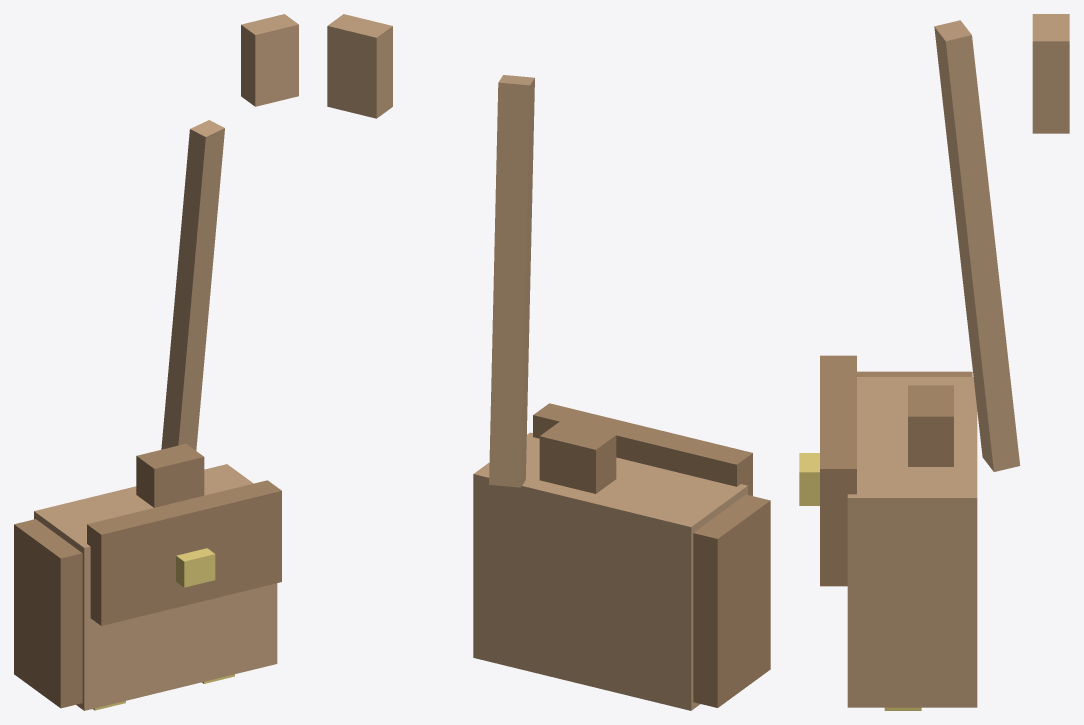
File: Purse.glb
3 renders of one model, left to right at view 1: azimuth 30°, elevation 25°; view 2: azimuth 150°, elevation 25°; view 3: azimuth 270°, elevation 25°, orthographic. The views are drawn at different scales.
Parts seen in each view (by area): view 1: Purse_Body, Purse_Flap, Purse_Strap, Purse_Side, Purse_Strap_Top, Purse_Strap_Join, Purse_Clasp; view 2: Purse_Body, Purse_Strap, Purse_Side, Purse_Flap, Purse_Strap_Top, Purse_Strap_Join; view 3: Purse_Body, Purse_Strap, Purse_Flap, Purse_Strap_Top, Purse_Strap_Join, Purse_Clasp, Purse_Side.
Part boxes in pixels (x1,y1,x2,y2): Purse_Body: [34, 464, 277, 710]; Purse_Flap: [87, 480, 281, 625]; Purse_Strap: [161, 120, 224, 450]; Purse_Side: [14, 519, 82, 708]; Purse_Strap_Top: [241, 14, 298, 106]; Purse_Strap_Join: [136, 444, 204, 507]; Purse_Clasp: [176, 548, 215, 587]; Purse_Body: [473, 432, 747, 710]; Purse_Strap: [489, 75, 534, 487]; Purse_Side: [693, 494, 770, 707]; Purse_Flap: [533, 403, 752, 495]; Purse_Strap_Top: [327, 14, 392, 118]; Purse_Strap_Join: [539, 421, 616, 493]; Purse_Body: [847, 377, 977, 707]; Purse_Strap: [934, 20, 1020, 471]; Purse_Flap: [820, 355, 856, 586]; Purse_Strap_Top: [1032, 14, 1069, 133]; Purse_Strap_Join: [908, 385, 953, 466]; Purse_Clasp: [799, 453, 819, 505]; Purse_Side: [857, 371, 972, 376].
Size of the model in its own units: 0.99 by 1.78 by 0.585.
